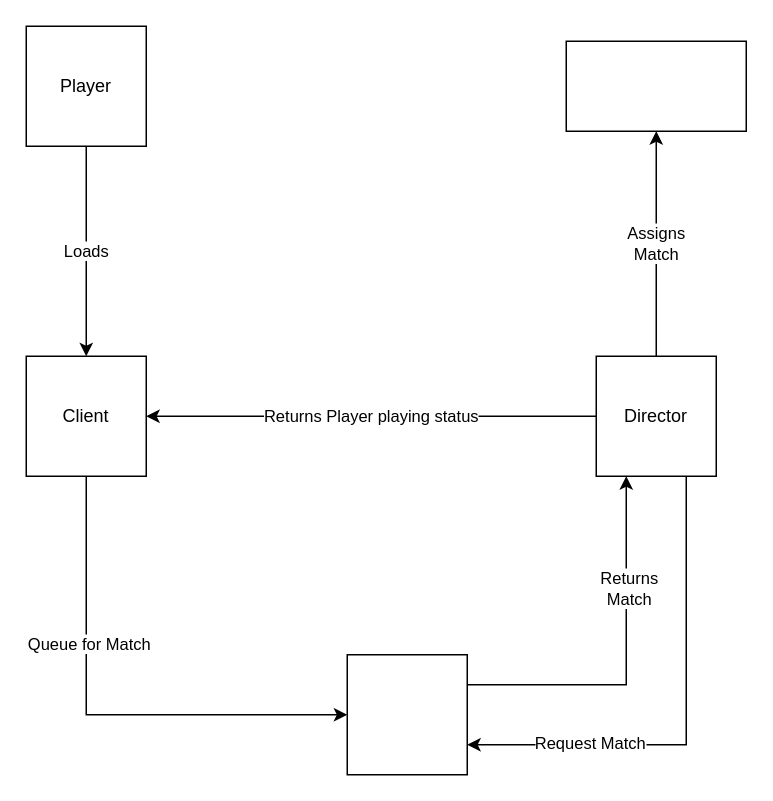
Image size: 773x801. Some labels were removed from this diagram. Each missing label, with the centre of its shape:
"Game Server" belongs at pixel 655 85.
"Matchmaker" belongs at pixel 406 714.
